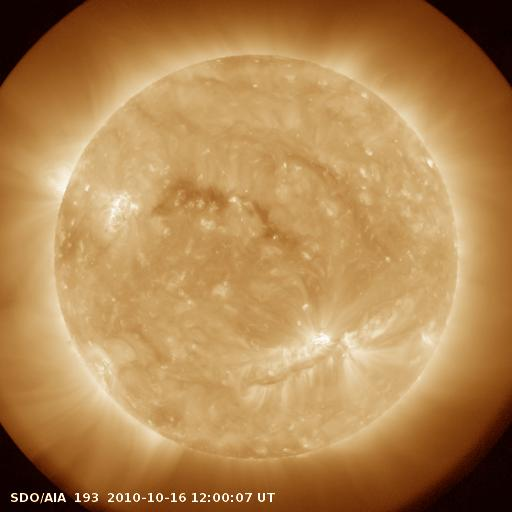coronal_hole: (150, 172, 235, 217)
